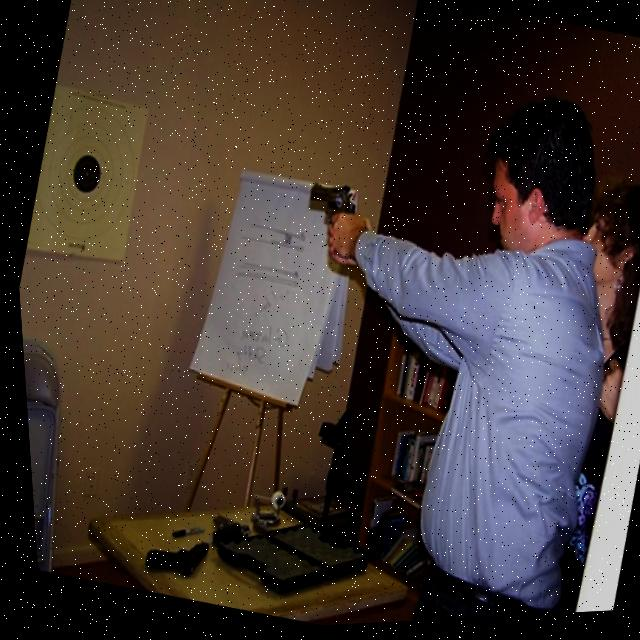knife: (161, 516, 197, 547)
pistol: (130, 530, 201, 582), (301, 178, 356, 219)
